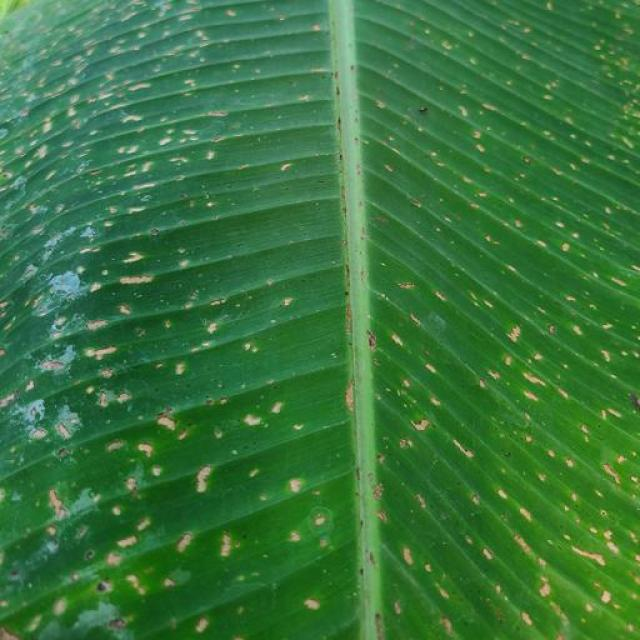Black_rot: (4, 7, 640, 640)
